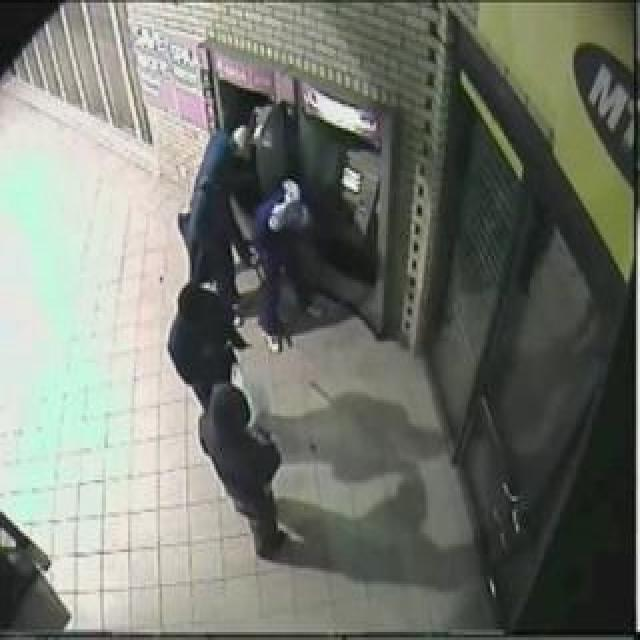thief: (152, 277, 260, 489), (186, 108, 309, 262)
